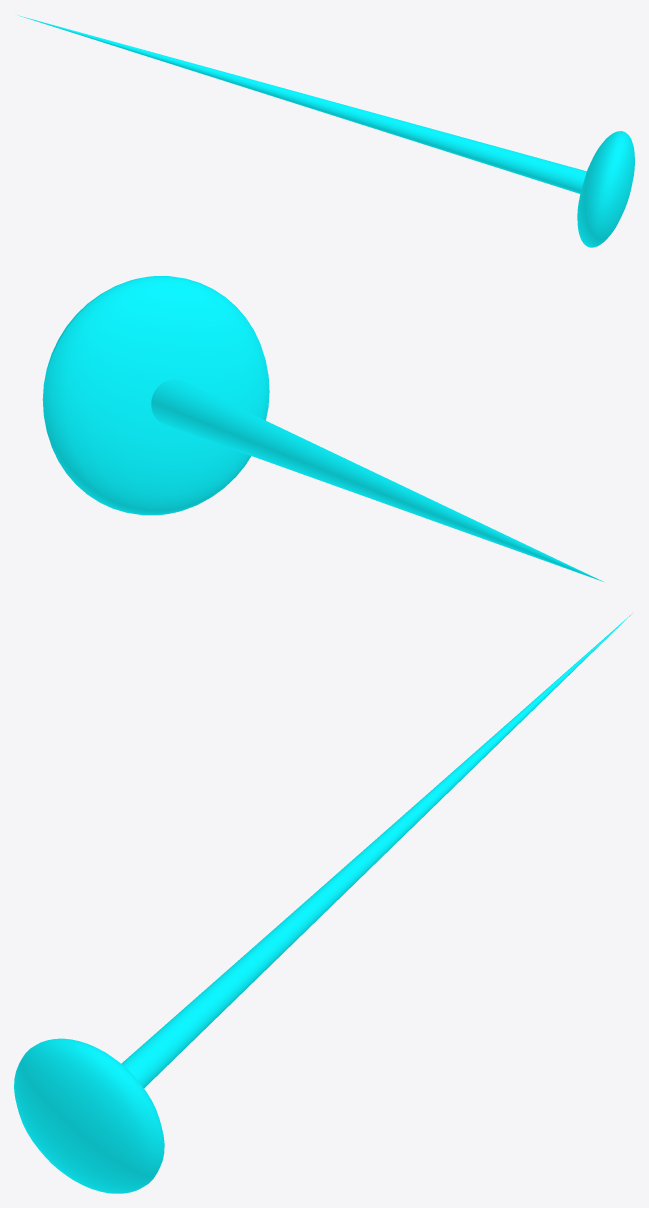
Rendered from nyt_insight__model___Mars_spirit.glb.
3 renders of one model, top to bottom at view 1: azimuth 30°, elevation 25°; view 2: azimuth 150°, elevation 25°; view 3: azimuth 270°, elevation 25°, orthographic. The views are drawn at different scales.
Visible parts, largest first — view 1: sphere3; view 2: sphere3; view 3: sphere3.
Boxes of the visible parts, x1,y1,x2,y2 form: sphere3: (18, 15, 634, 247); sphere3: (42, 276, 603, 581); sphere3: (14, 612, 633, 1193).
Size of the model in its own units: 0.000851 by 0.000353 by 0.000691.
